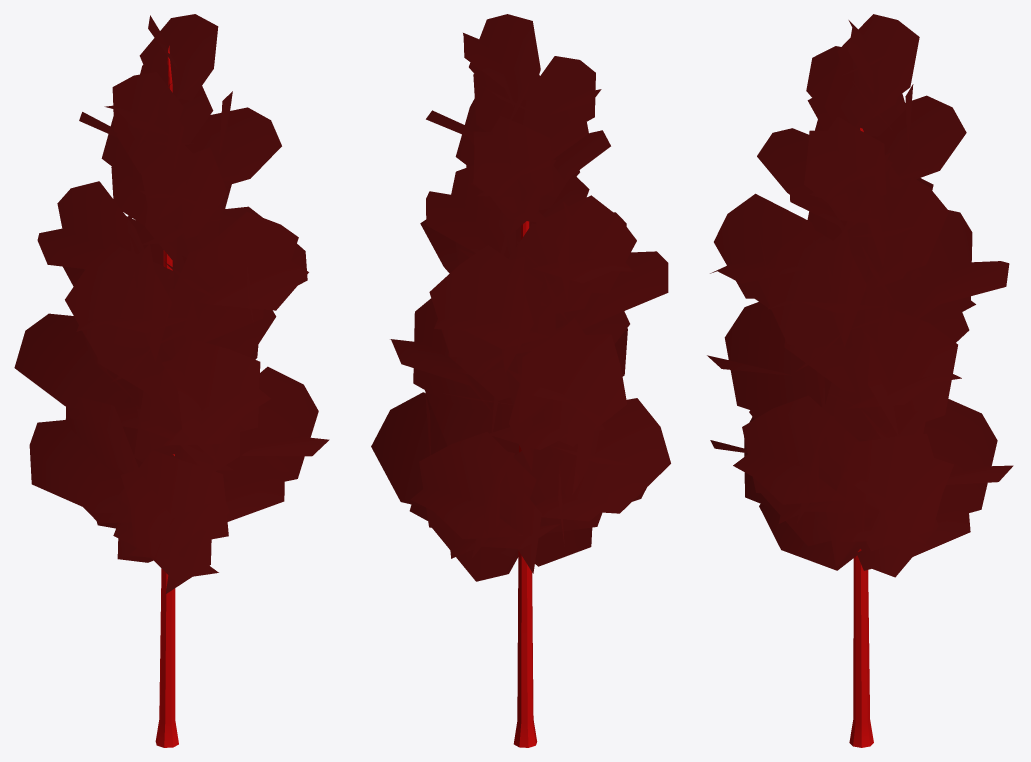
File: SM_Tree_Birch_03.gltf
3 views of the same model, side by side, from view 1: azimuth 30°, elevation 25°; view 2: azimuth 150°, elevation 25°; view 3: azimuth 270°, elevation 25° (orthographic).
Visible parts, largest first — view 1: SM_Tree_Birch_03; view 2: SM_Tree_Birch_03; view 3: SM_Tree_Birch_03.
Boxes of the visible parts, <box> form: SM_Tree_Birch_03: <box>14,14,329,747</box>; SM_Tree_Birch_03: <box>371,14,670,747</box>; SM_Tree_Birch_03: <box>707,14,1013,747</box>.
Bounding box in the file's own units: 2.14 × 5.4 × 2.11.
